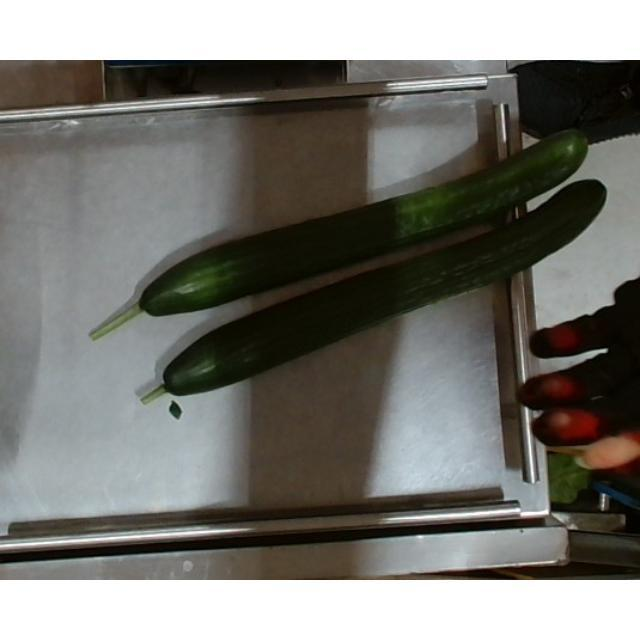cucumber: (139, 179, 606, 407), (89, 130, 591, 342)
